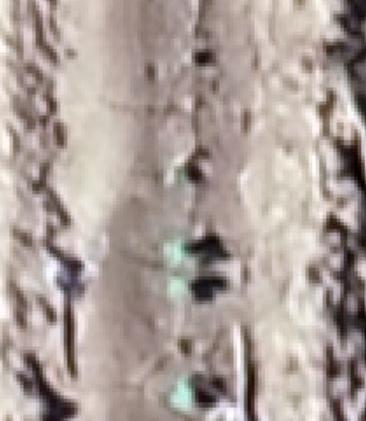cotton: (167, 242, 188, 263), (170, 277, 189, 298), (177, 381, 194, 404), (175, 166, 186, 182)
